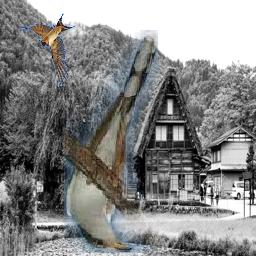Cuckoo: (64, 31, 158, 254)
Swallow: (21, 13, 76, 89)
